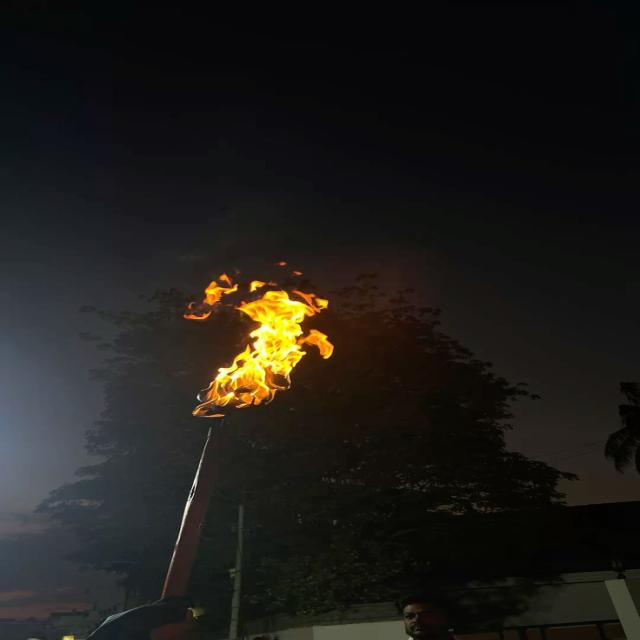fire: (192, 291, 334, 417)
